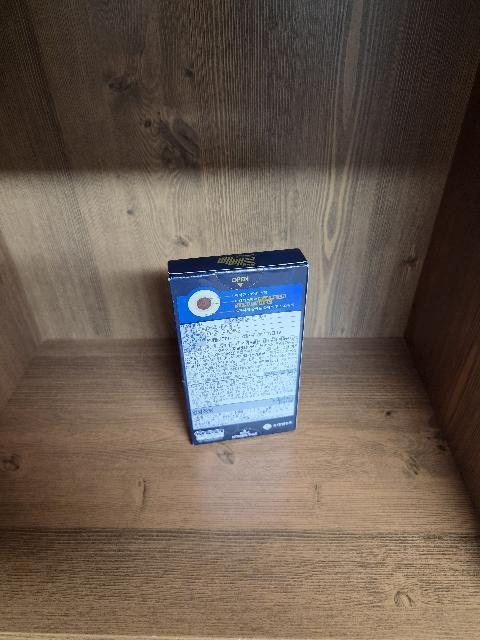pepero: (168, 248, 309, 446)
